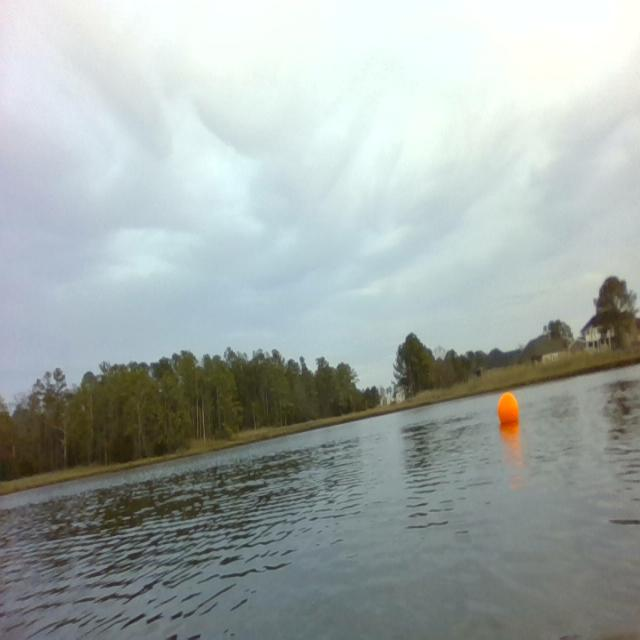Buoy: (496, 389, 520, 427)
